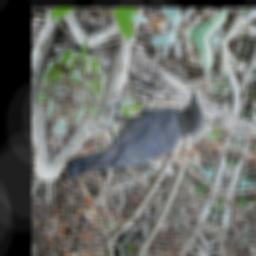Crow: (60, 62, 212, 209)
